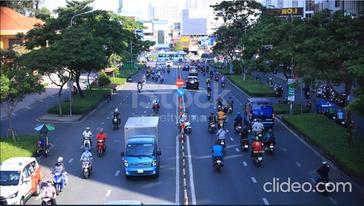car: (242, 93, 276, 131)
motorcycle: (49, 160, 66, 196), (208, 148, 229, 175), (78, 146, 94, 179), (314, 174, 335, 193), (251, 144, 266, 167), (176, 119, 198, 134), (206, 111, 218, 134), (95, 133, 106, 158), (240, 135, 251, 155), (215, 136, 230, 150), (35, 195, 58, 204), (80, 136, 93, 151), (110, 114, 122, 129), (150, 99, 162, 114), (267, 135, 275, 156)
truck: (120, 113, 165, 183)
